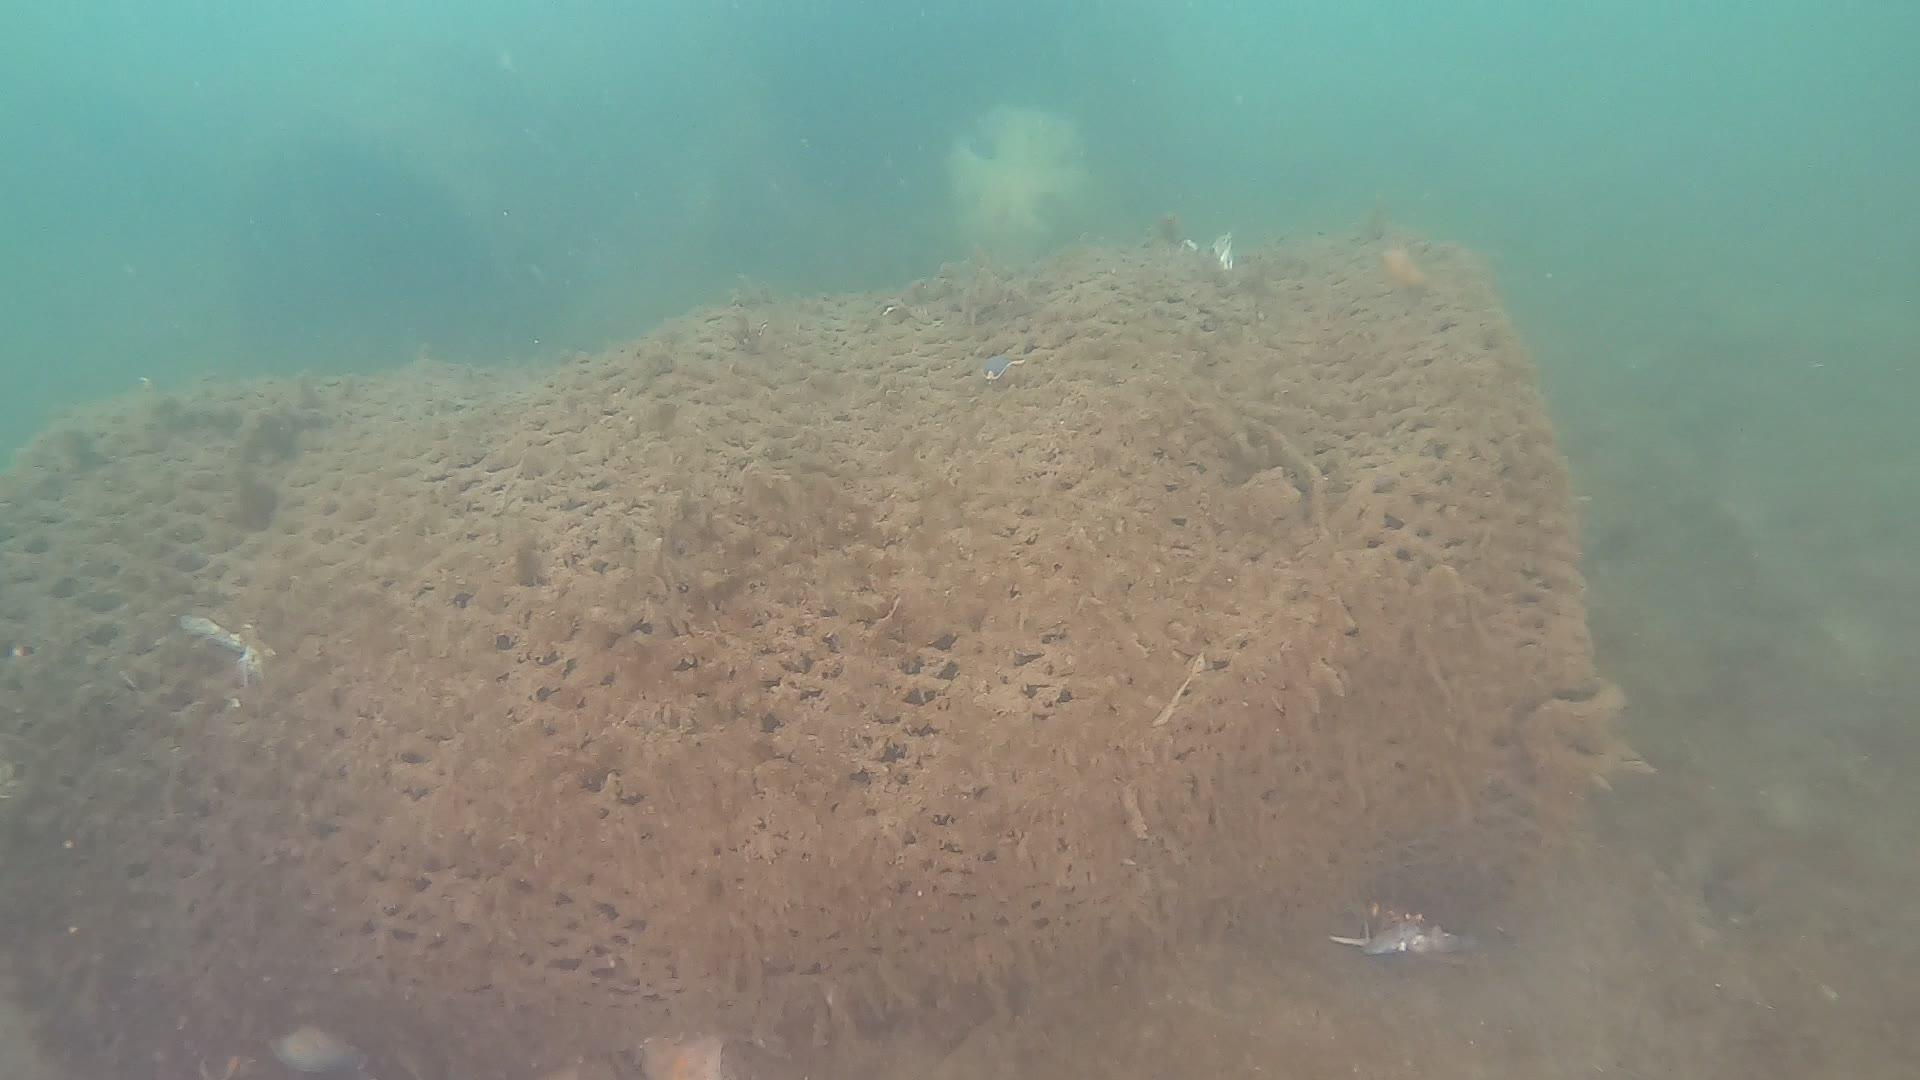spring fish trap: (0, 224, 1601, 1080)
